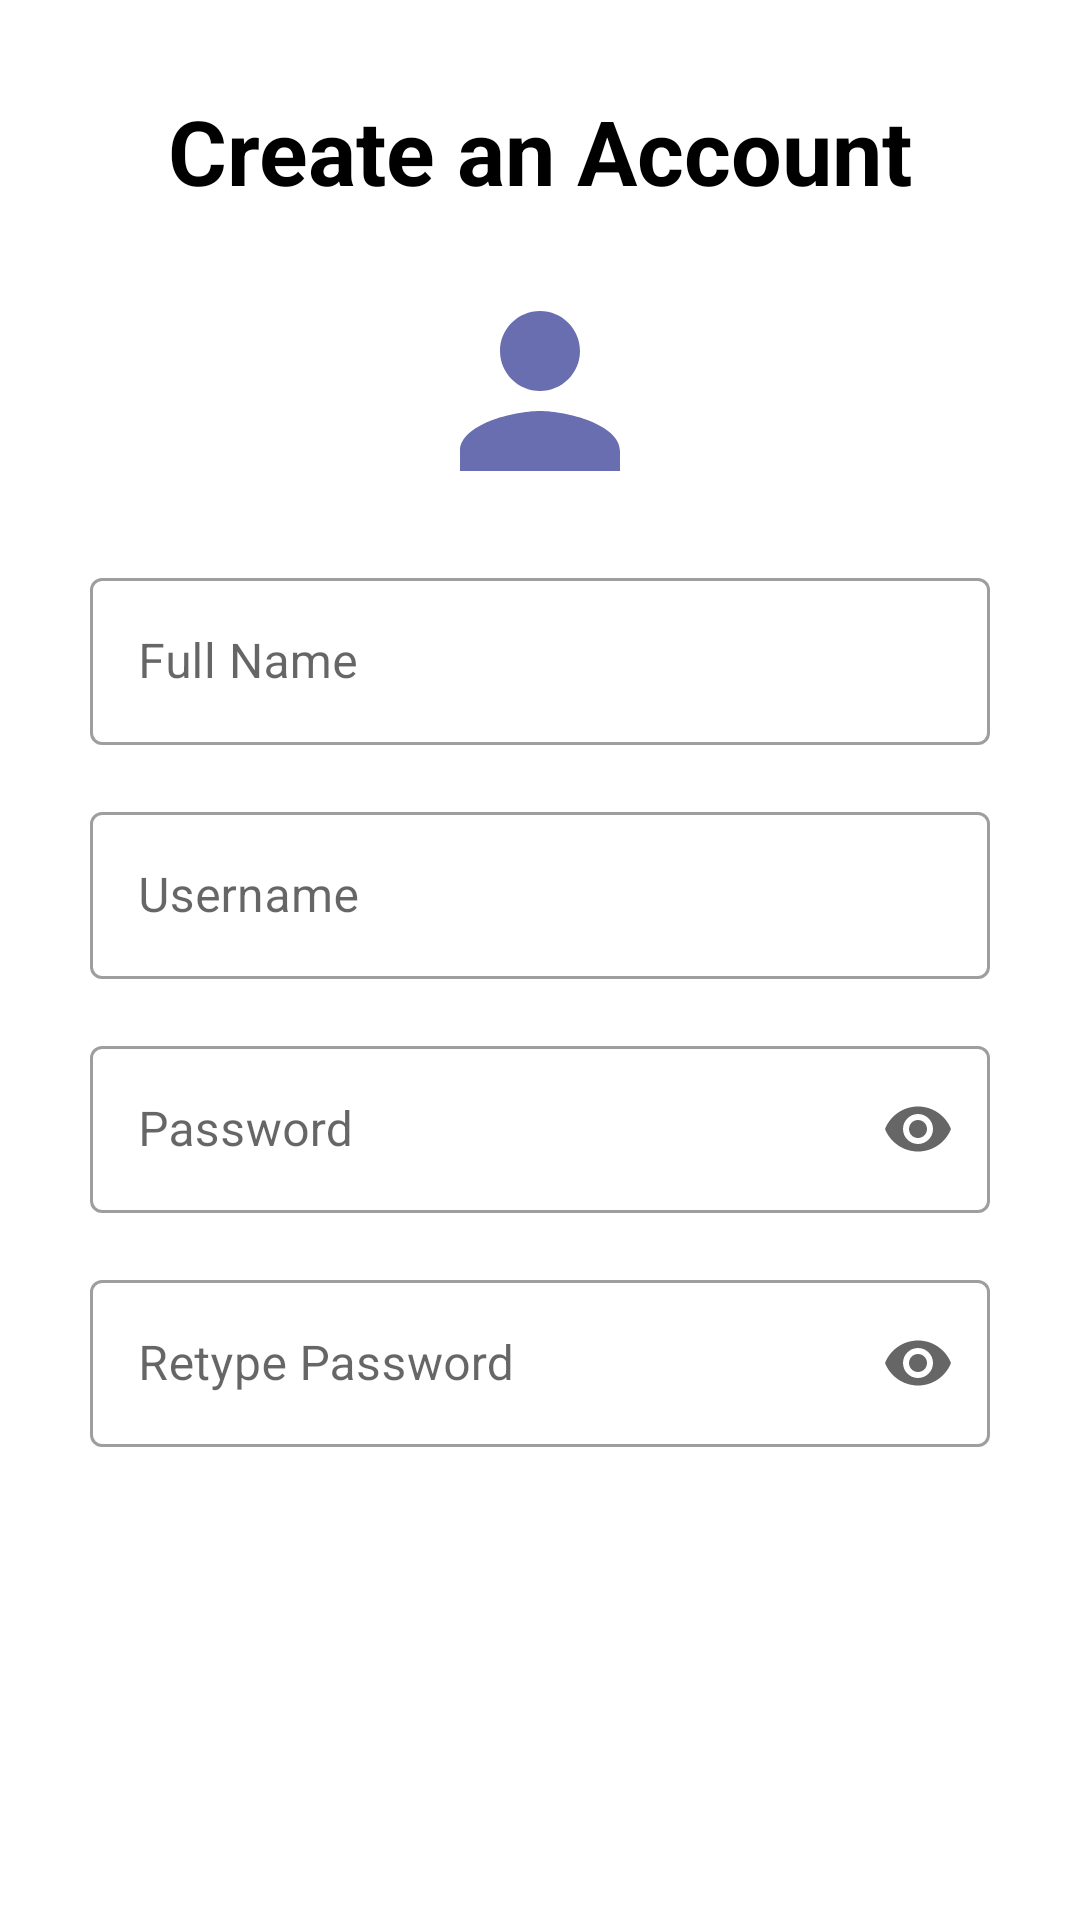

Screen size 1080×1920. Icon name, then its box in pixels as [left=x1, top=y1, right=x2, bottom=y2]:
login profile: [left=460, top=311, right=620, bottom=471]
